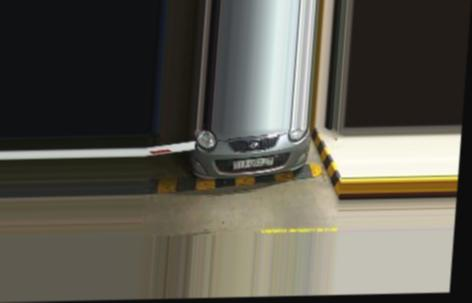License_Plate: (230, 157, 277, 171)
